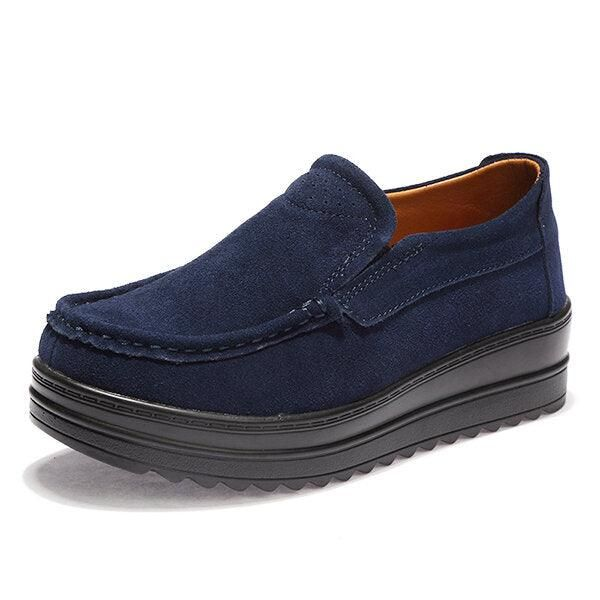gamuza: (38, 153, 568, 420)
